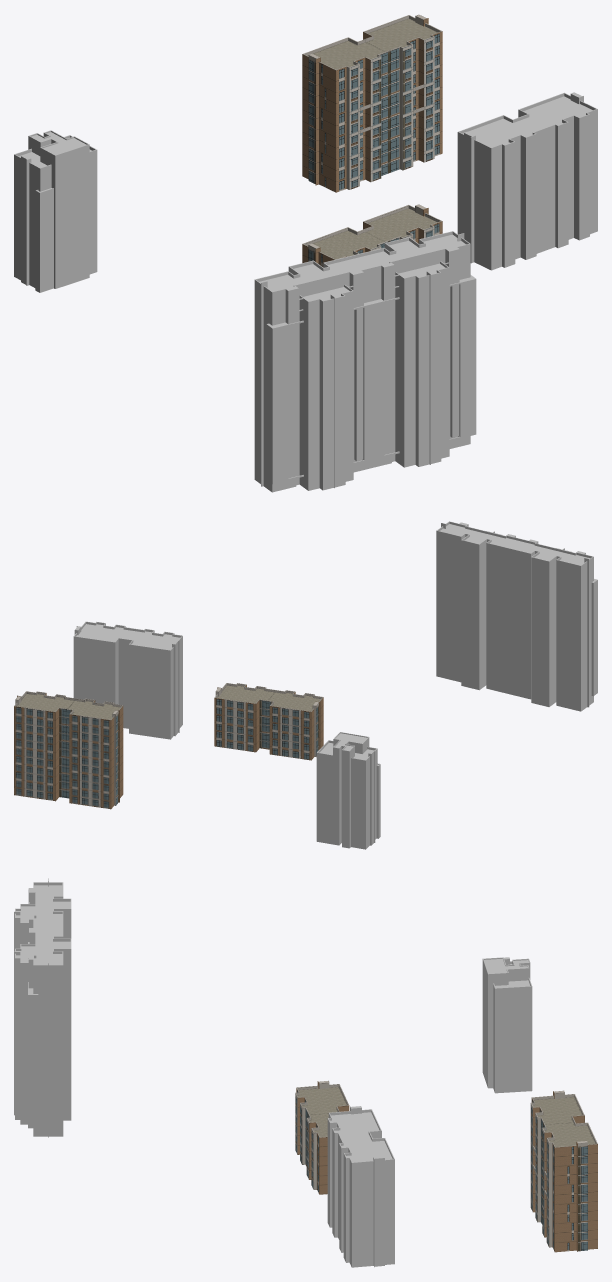
File: xiaoqu4#.FBX
The picture shows the model from 3 angles, top to bottom: view 1: azimuth 30°, elevation 25°; view 2: azimuth 150°, elevation 25°; view 3: azimuth 270°, elevation 25°; orthographic projection. The views are drawn at different scales.
Visible parts, largest first — view 1: xiaoqu4#-5, xiaoqu4#-1, xiaoqu4#-3, xiaoqu4#-2, xiaoqu4#-4; view 2: xiaoqu4#-5, xiaoqu4#-1, xiaoqu4#-3, xiaoqu4#-4, xiaoqu4#-2; view 3: xiaoqu4#-5, xiaoqu4#-1, xiaoqu4#-3, xiaoqu4#-2, xiaoqu4#-4.
Part boxes in pixels (x1=…): xiaoqu4#-5: x1=254, y1=231, x2=476, y2=492; xiaoqu4#-1: x1=302, y1=14, x2=442, y2=192; xiaoqu4#-3: x1=457, y1=92, x2=597, y2=270; xiaoqu4#-2: x1=14, y1=130, x2=97, y2=292; xiaoqu4#-4: x1=302, y1=204, x2=442, y2=266; xiaoqu4#-5: x1=436, y1=521, x2=597, y2=711; xiaoqu4#-1: x1=14, y1=691, x2=123, y2=809; xiaoqu4#-3: x1=73, y1=621, x2=182, y2=739; xiaoqu4#-4: x1=214, y1=683, x2=323, y2=760; xiaoqu4#-2: x1=316, y1=732, x2=380, y2=849; xiaoqu4#-5: x1=14, y1=878, x2=71, y2=1137; xiaoqu4#-1: x1=530, y1=1090, x2=597, y2=1252; xiaoqu4#-3: x1=327, y1=1106, x2=394, y2=1267; xiaoqu4#-2: x1=482, y1=957, x2=532, y2=1093; xiaoqu4#-4: x1=295, y1=1080, x2=349, y2=1194.
Bounding box in the file's own units: 145 × 167 × 55.
